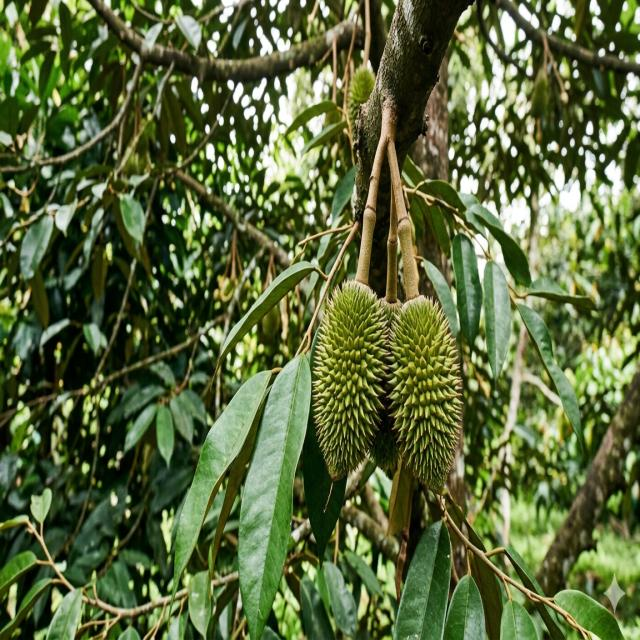immature: (383, 292, 463, 493), (311, 275, 390, 478), (345, 65, 376, 143)
